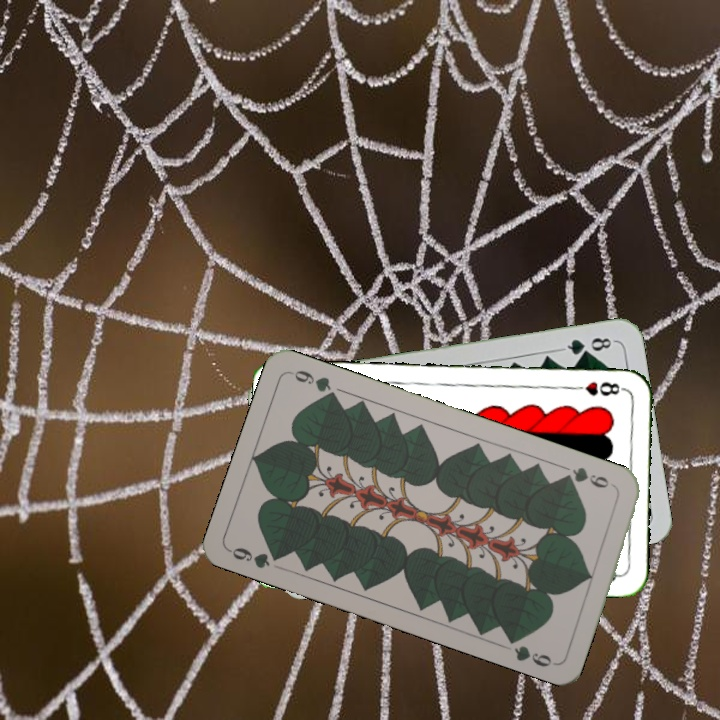G8: (558, 333, 617, 358)
G9: (559, 463, 619, 492), (225, 543, 286, 571)
H8: (568, 377, 627, 398)
